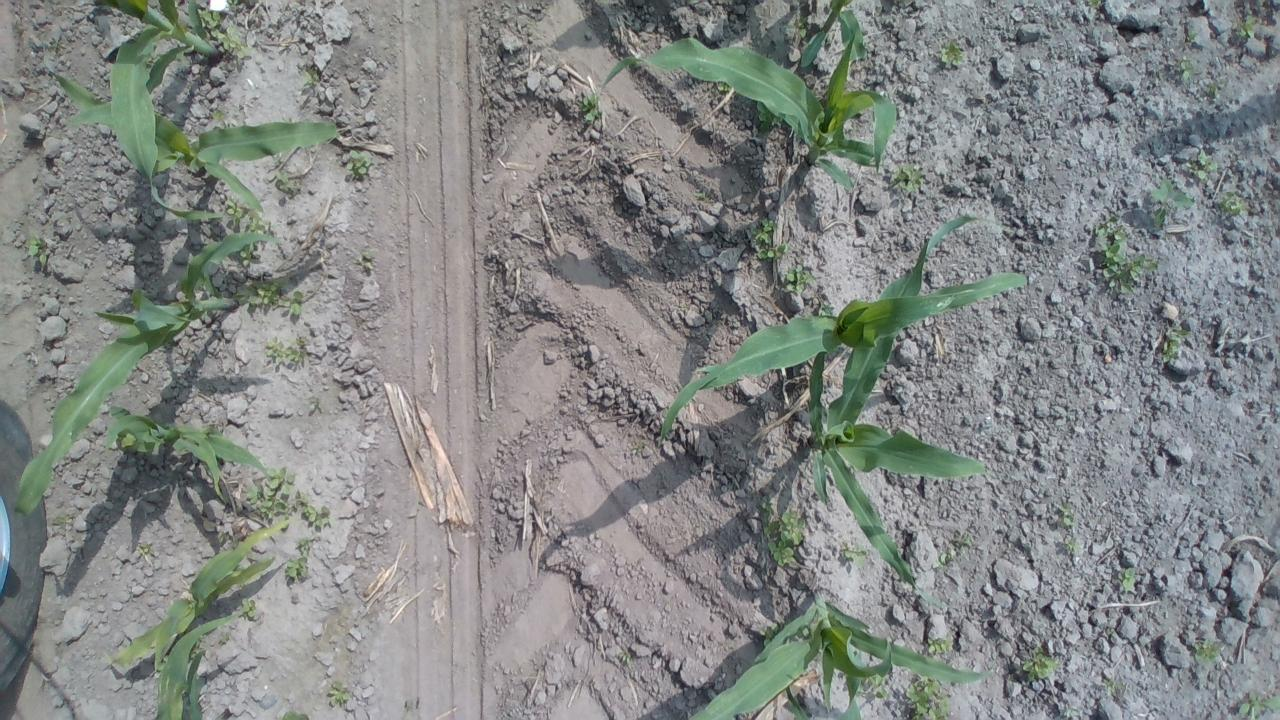Maize: (649, 254, 1049, 460), (16, 226, 282, 521), (799, 212, 994, 600), (573, 2, 913, 198), (39, 66, 354, 230), (654, 587, 990, 720), (108, 515, 300, 720), (79, 0, 233, 231), (88, 406, 286, 504)
Weeds: (1089, 219, 1161, 292), (750, 491, 811, 574), (217, 194, 274, 270), (244, 462, 304, 528), (199, 1, 253, 62), (230, 276, 308, 318), (899, 671, 956, 720), (1168, 57, 1226, 105), (1142, 182, 1198, 230), (1048, 496, 1087, 564), (261, 332, 315, 371), (744, 212, 786, 262), (1184, 146, 1224, 190), (1015, 648, 1062, 684), (1226, 12, 1266, 52), (936, 530, 976, 570), (1152, 320, 1190, 362), (1237, 684, 1280, 720), (778, 260, 816, 300), (887, 160, 923, 202), (830, 536, 869, 574), (278, 554, 315, 592), (934, 36, 968, 72), (920, 633, 963, 661), (576, 84, 604, 127), (1218, 186, 1248, 226), (1185, 632, 1222, 664), (23, 234, 55, 270), (342, 149, 378, 181), (1178, 21, 1212, 54), (753, 97, 783, 131), (784, 8, 812, 44), (325, 679, 358, 709), (300, 504, 334, 532), (1117, 564, 1145, 598), (235, 595, 265, 626), (1096, 673, 1133, 696), (270, 166, 300, 194), (350, 246, 378, 275), (298, 62, 324, 92), (864, 674, 889, 700), (294, 532, 320, 556), (715, 78, 741, 99), (759, 621, 780, 645), (128, 540, 152, 558), (278, 709, 316, 720), (614, 645, 632, 668), (304, 396, 324, 415), (630, 440, 648, 459)
